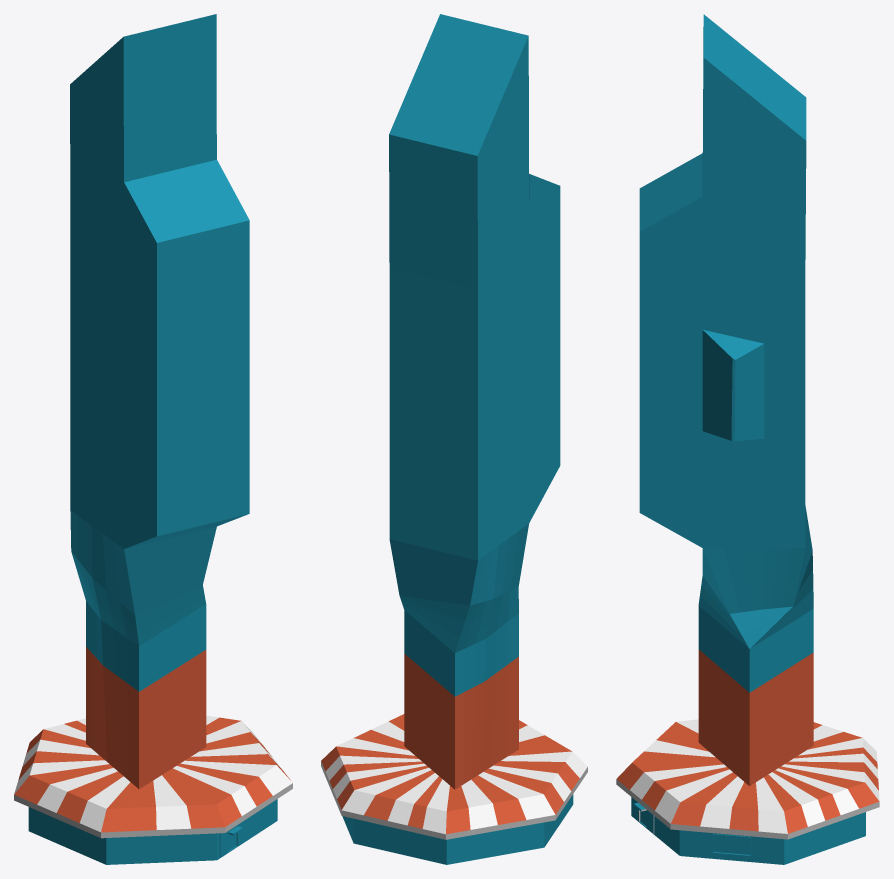
Rendered from MyungamTower.fbx.
The picture shows the model from 3 angles, left to right: view 1: azimuth 30°, elevation 25°; view 2: azimuth 150°, elevation 25°; view 3: azimuth 270°, elevation 25°; orthographic projection. The views are drawn at different scales.
Parts seen in each view (by area): view 1: Cylinder; view 2: Cylinder; view 3: Cylinder.
Part boxes in pixels (x1=…): Cylinder: x1=14, y1=14, x2=292, y2=864; Cylinder: x1=321, y1=14, x2=587, y2=864; Cylinder: x1=616, y1=14, x2=879, y2=864.
Size of the model in its own units: 522 by 1665 by 512.
